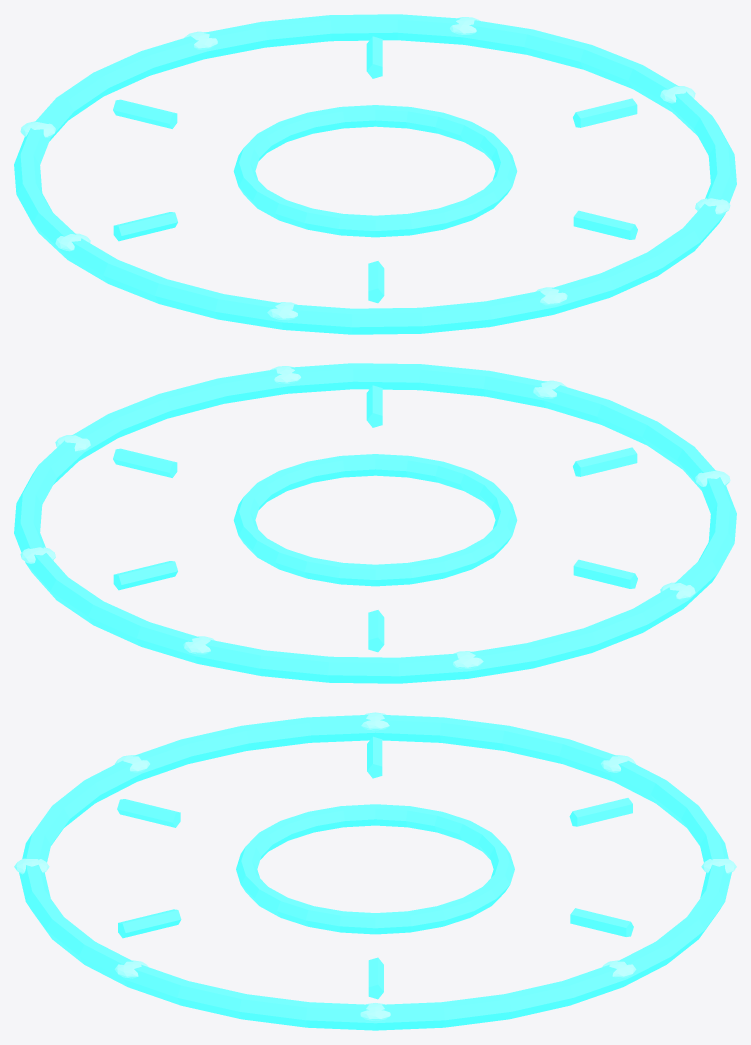
Rendered from forest_rune_circle.glb.
The picture shows the model from 3 angles, top to bottom: view 1: azimuth 30°, elevation 25°; view 2: azimuth 150°, elevation 25°; view 3: azimuth 270°, elevation 25°; orthographic projection.
Parts seen in each view (by area): view 1: Shrine magic circle, Shrine inner glyph circle, Radial shrine marking, Radial shrine marking.005, Radial shrine marking.002, Radial shrine marking.003, Radial shrine marking.001, Radial shrine marking.004; view 2: Shrine magic circle, Shrine inner glyph circle, Radial shrine marking.004, Radial shrine marking.003, Radial shrine marking, Radial shrine marking.001, Radial shrine marking.002, Radial shrine marking.005; view 3: Shrine magic circle, Shrine inner glyph circle, Radial shrine marking.004, Radial shrine marking.001, Radial shrine marking.005, Radial shrine marking.002, Radial shrine marking, Radial shrine marking.003.
Part boxes in pixels (bbox=[...]): Shrine magic circle: bbox=[14, 14, 736, 334]; Shrine inner glyph circle: bbox=[233, 105, 517, 237]; Radial shrine marking: bbox=[573, 98, 637, 127]; Radial shrine marking.005: bbox=[573, 210, 637, 239]; Radial shrine marking.002: bbox=[113, 99, 177, 128]; Radial shrine marking.003: bbox=[113, 212, 177, 241]; Radial shrine marking.001: bbox=[366, 36, 382, 78]; Radial shrine marking.004: bbox=[368, 261, 384, 303]; Shrine magic circle: bbox=[14, 363, 736, 683]; Shrine inner glyph circle: bbox=[233, 454, 517, 586]; Radial shrine marking.004: bbox=[573, 447, 637, 476]; Radial shrine marking.003: bbox=[573, 559, 637, 588]; Radial shrine marking: bbox=[113, 448, 177, 477]; Radial shrine marking.001: bbox=[113, 561, 177, 590]; Radial shrine marking.002: bbox=[368, 610, 384, 652]; Radial shrine marking.005: bbox=[366, 385, 382, 427]; Shrine magic circle: bbox=[19, 715, 731, 1030]; Shrine inner glyph circle: bbox=[236, 804, 514, 934]; Radial shrine marking.004: bbox=[117, 799, 180, 827]; Radial shrine marking.001: bbox=[570, 908, 633, 936]; Radial shrine marking.005: bbox=[118, 909, 181, 938]; Radial shrine marking.002: bbox=[569, 798, 632, 826]; Radial shrine marking: bbox=[368, 957, 383, 999]; Radial shrine marking.003: bbox=[367, 736, 382, 778].
Bounding box in the file's own units: 1.01 × 0.034 × 1.01.
